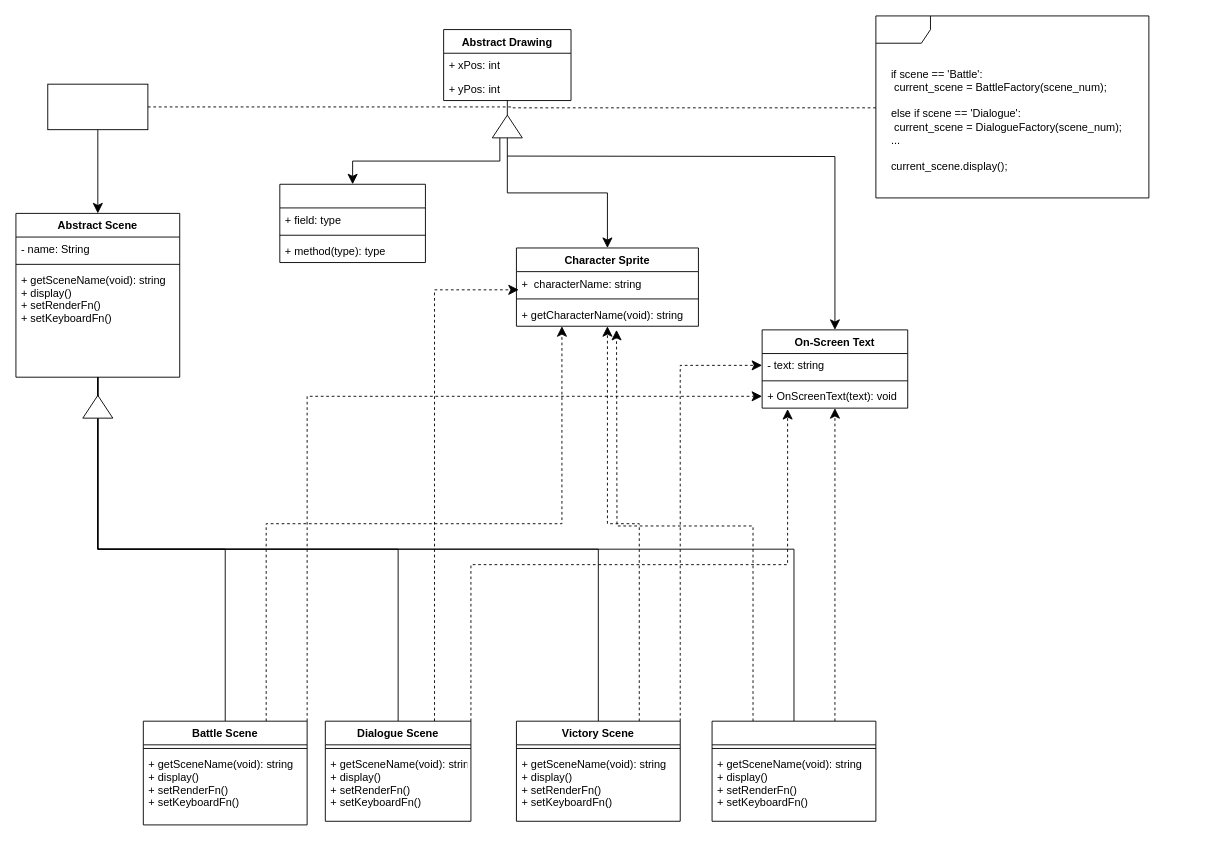
The diagram is 1206 pixels wide and 844 high, and some of its shapes have lost their labels. The shapes that lost their labels are listed below. From the top down, each one's box as (x1, y1, x2, y2) in pixels, then its label:
(47, 83, 148, 130): Client
(875, 15, 1149, 198): imp.
(279, 183, 425, 263): Background
(711, 720, 876, 821): Game Over Scene
